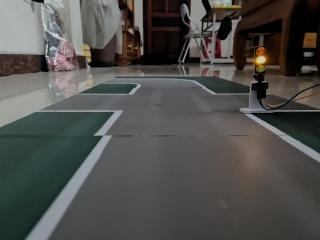yellow: (248, 39, 274, 83)
